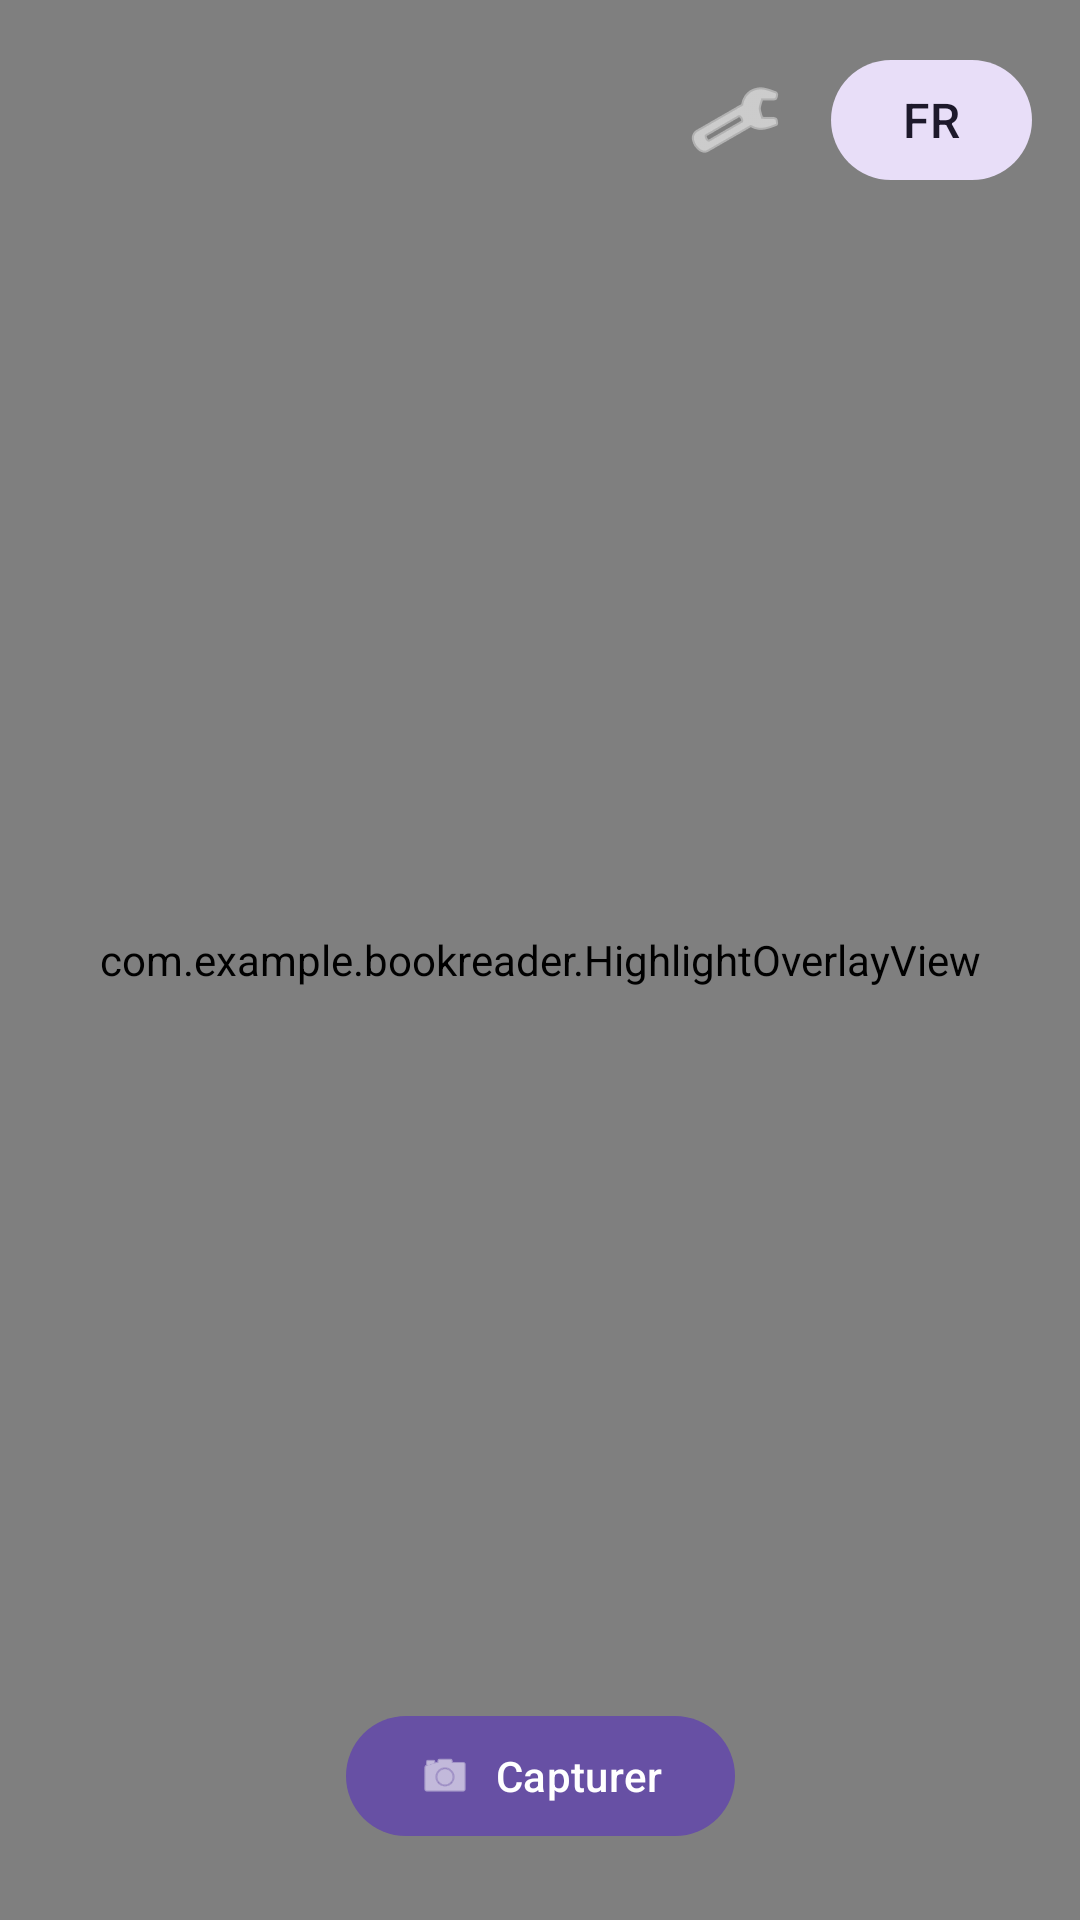

Screen size 1080×1920. Icon name, then its box in pixels as bbox=[x1, y1, x2, y2]:
Ouvrir les réglages: bbox=[692, 87, 778, 153]
